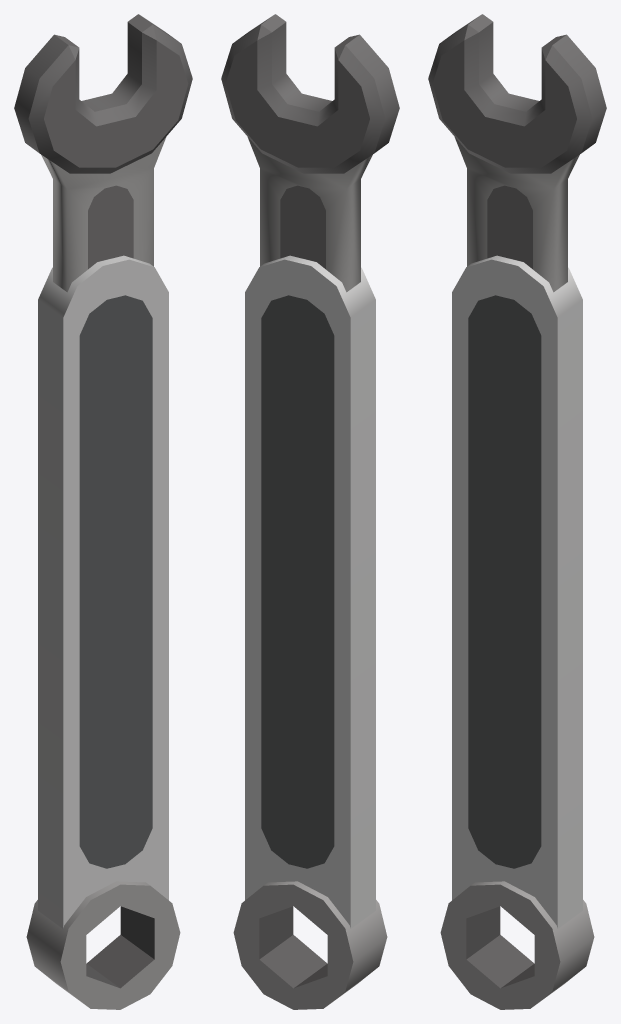
Rendered from Screwdriver_002.fbx.
3 renders of one model, left to right at view 1: azimuth 30°, elevation 25°; view 2: azimuth 150°, elevation 25°; view 3: azimuth 330°, elevation 25°, orthographic.
Parts seen in each view (by area): view 1: Screwdriver_002; view 2: Screwdriver_002; view 3: Screwdriver_002.
Boxes of the visible parts, x1,y1,x2,y2 form: Screwdriver_002: (14, 14, 192, 1009); Screwdriver_002: (221, 14, 399, 1009); Screwdriver_002: (428, 14, 606, 1009).
Size of the model in its own units: 11.01 by 3.95 by 61.97.
